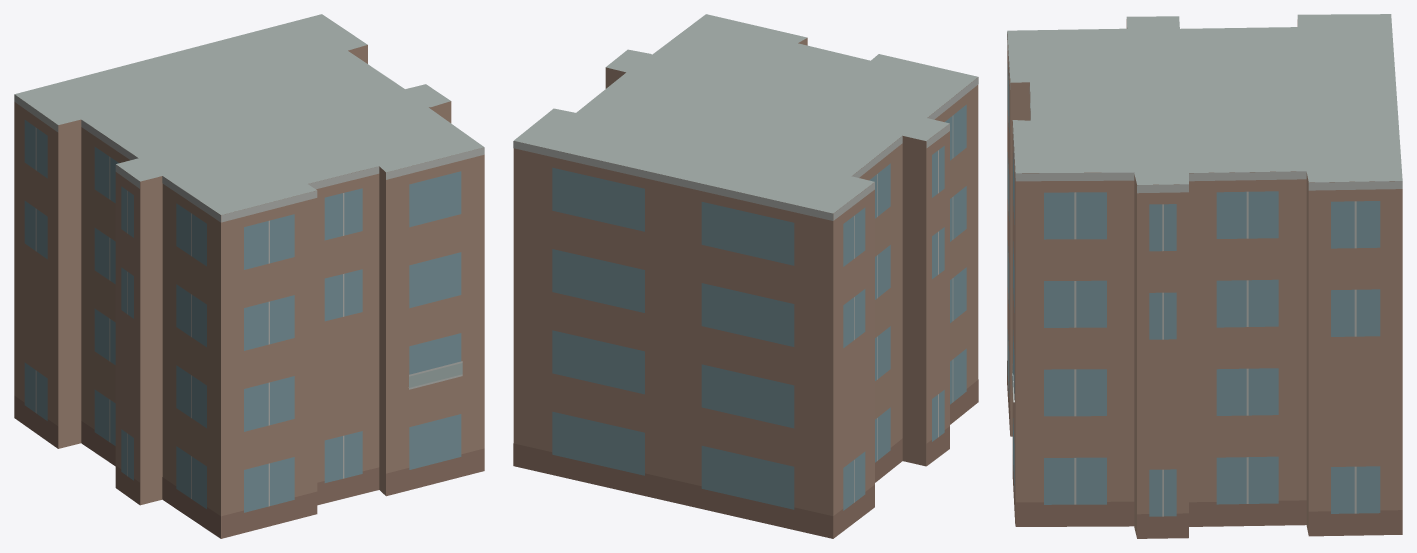
File: survey-upis-32530083.glb
The picture shows the model from 3 angles, left to right: view 1: azimuth 30°, elevation 25°; view 2: azimuth 150°, elevation 25°; view 3: azimuth 270°, elevation 25°; orthographic projection. The views are drawn at different scales.
Parts seen in each view (by area): view 1: survey-upis-32530083.tmp; view 2: survey-upis-32530083.tmp; view 3: survey-upis-32530083.tmp.
Part boxes in pixels (x1,y1,x2,y2): survey-upis-32530083.tmp: (14,14,484,538); survey-upis-32530083.tmp: (513,14,978,538); survey-upis-32530083.tmp: (1007,14,1402,538).
Bounding box in the file's own units: 11 × 10.6 × 10.75.
